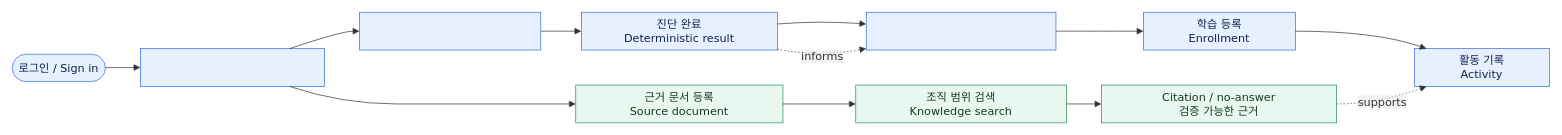
Image size: 1562x135. Some labels were removed from this diagram. Here are the shapes that lost their labels. From the top down, the centre of each, then its label:
At [450,31]: "진단 세션 시작 Goal + turns".
At [961,31]: "추천 학습 경로 Learning path".
At [232,67]: "조직 공간 선택 Organization".
